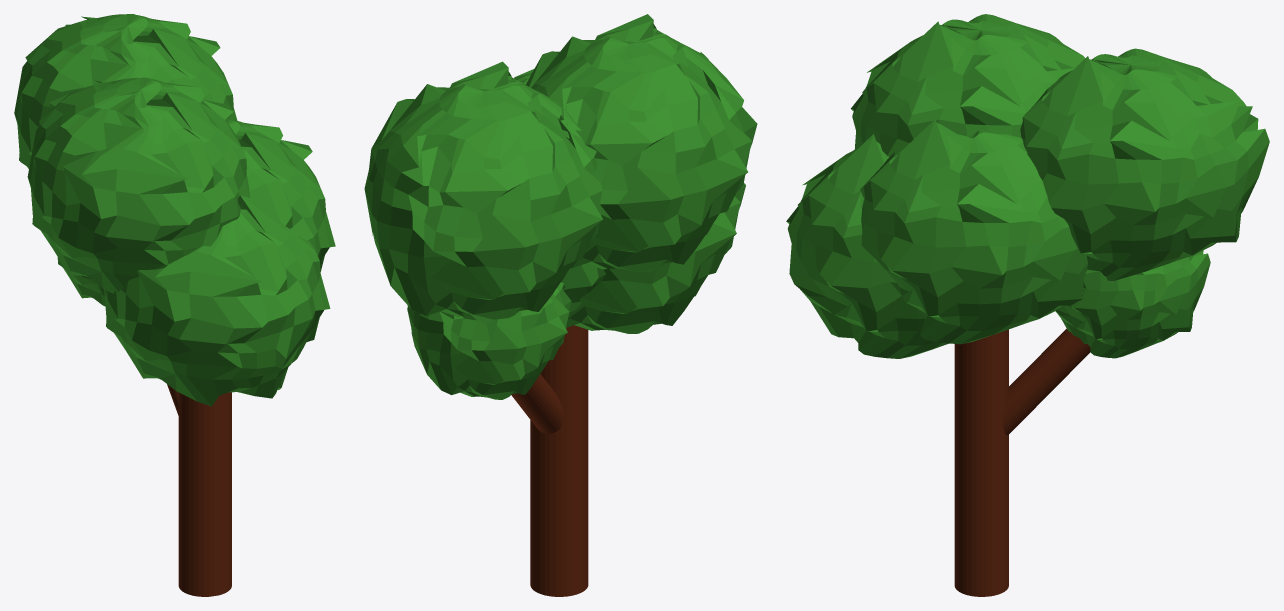
The model's file is tree2.fbx.
3 views of the same model, side by side, from view 1: azimuth 30°, elevation 25°; view 2: azimuth 150°, elevation 25°; view 3: azimuth 270°, elevation 25° (orthographic). The views are drawn at different scales.
Parts seen in each view (by area): view 1: Leaf 3, Leaf 5, Leaf 4, Trunk, Leaf 2, Leaf 1; view 2: Leaf 4, Leaf 3, Trunk, Leaf 1, Leaf 5, Branch, Leaf 2; view 3: Leaf 4, Leaf 2, Leaf 3, Leaf 5, Trunk, Leaf 1, Branch.
Boxes of the visible parts, bbox=[...] form: Leaf 3: bbox=[27, 77, 249, 293]; Leaf 5: bbox=[104, 195, 330, 406]; Leaf 4: bbox=[14, 14, 237, 168]; Trunk: bbox=[178, 392, 231, 596]; Leaf 2: bbox=[225, 118, 335, 271]; Leaf 1: bbox=[57, 257, 105, 306]; Leaf 4: bbox=[364, 61, 602, 319]; Leaf 3: bbox=[525, 14, 757, 272]; Trunk: bbox=[530, 325, 588, 596]; Leaf 1: bbox=[407, 282, 571, 399]; Leaf 5: bbox=[566, 183, 745, 333]; Branch: bbox=[511, 374, 563, 433]; Leaf 2: bbox=[514, 68, 606, 311]; Leaf 4: bbox=[1020, 48, 1269, 280]; Leaf 2: bbox=[860, 119, 1087, 344]; Leaf 3: bbox=[851, 14, 1085, 157]; Leaf 5: bbox=[786, 134, 948, 358]; Trunk: bbox=[954, 329, 1008, 596]; Leaf 1: bbox=[1055, 250, 1210, 358]; Branch: bbox=[1003, 328, 1090, 435].
Size of the model in its own units: 444 by 801 by 657.
